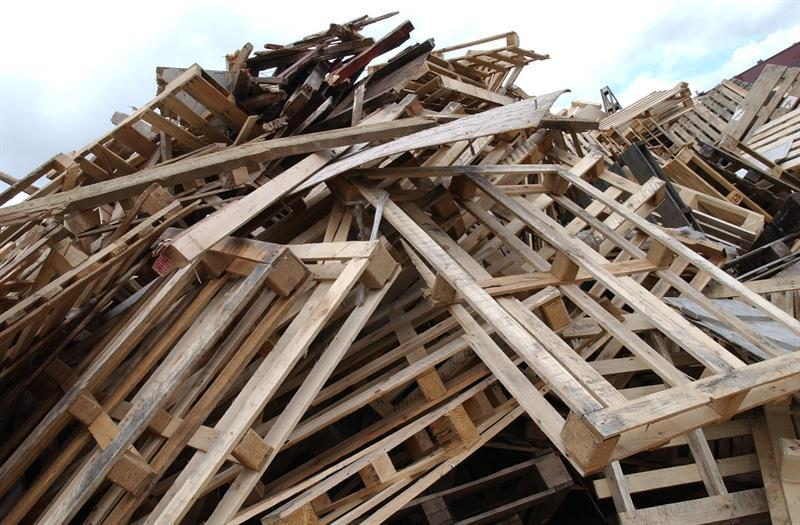wood: (348, 161, 798, 476), (16, 230, 402, 513), (583, 385, 783, 521), (63, 59, 256, 188), (433, 25, 552, 87), (598, 79, 700, 144)
